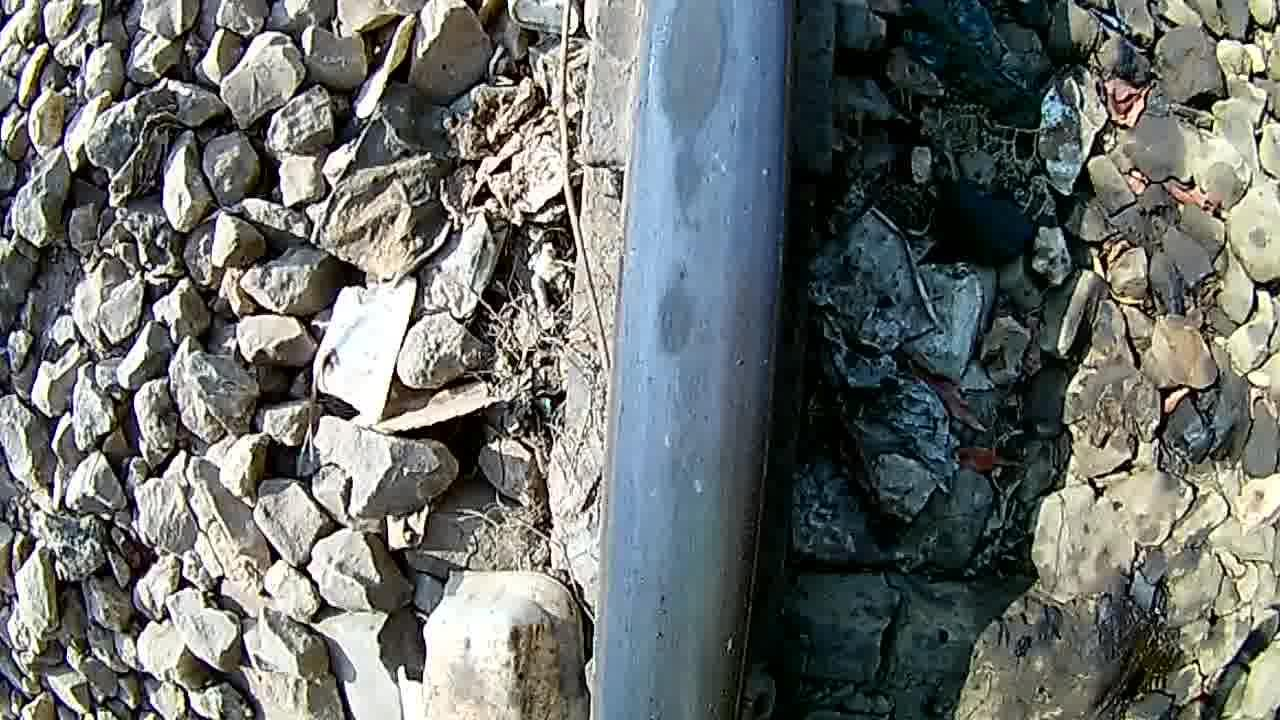bolt_missing: (626, 0, 768, 375)
